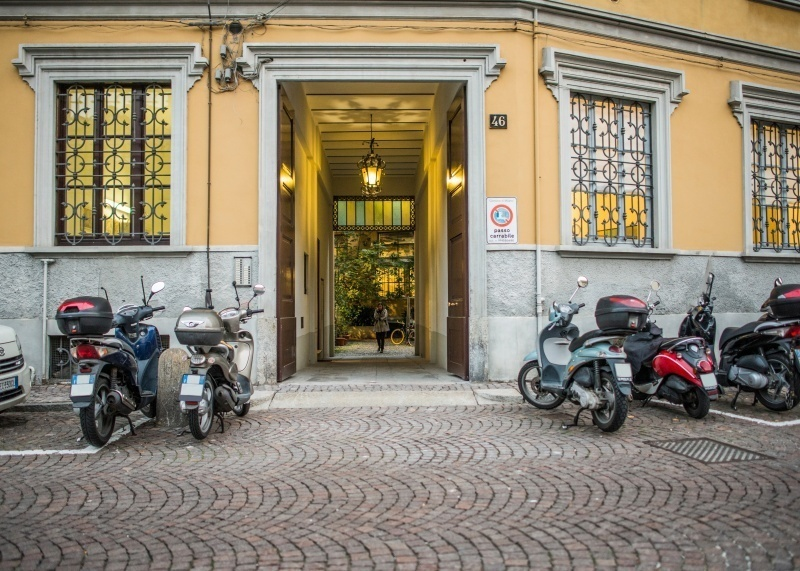non-vehicle: (60, 287, 167, 439), (603, 276, 712, 421), (170, 277, 268, 431), (517, 279, 610, 419), (708, 267, 797, 409)
